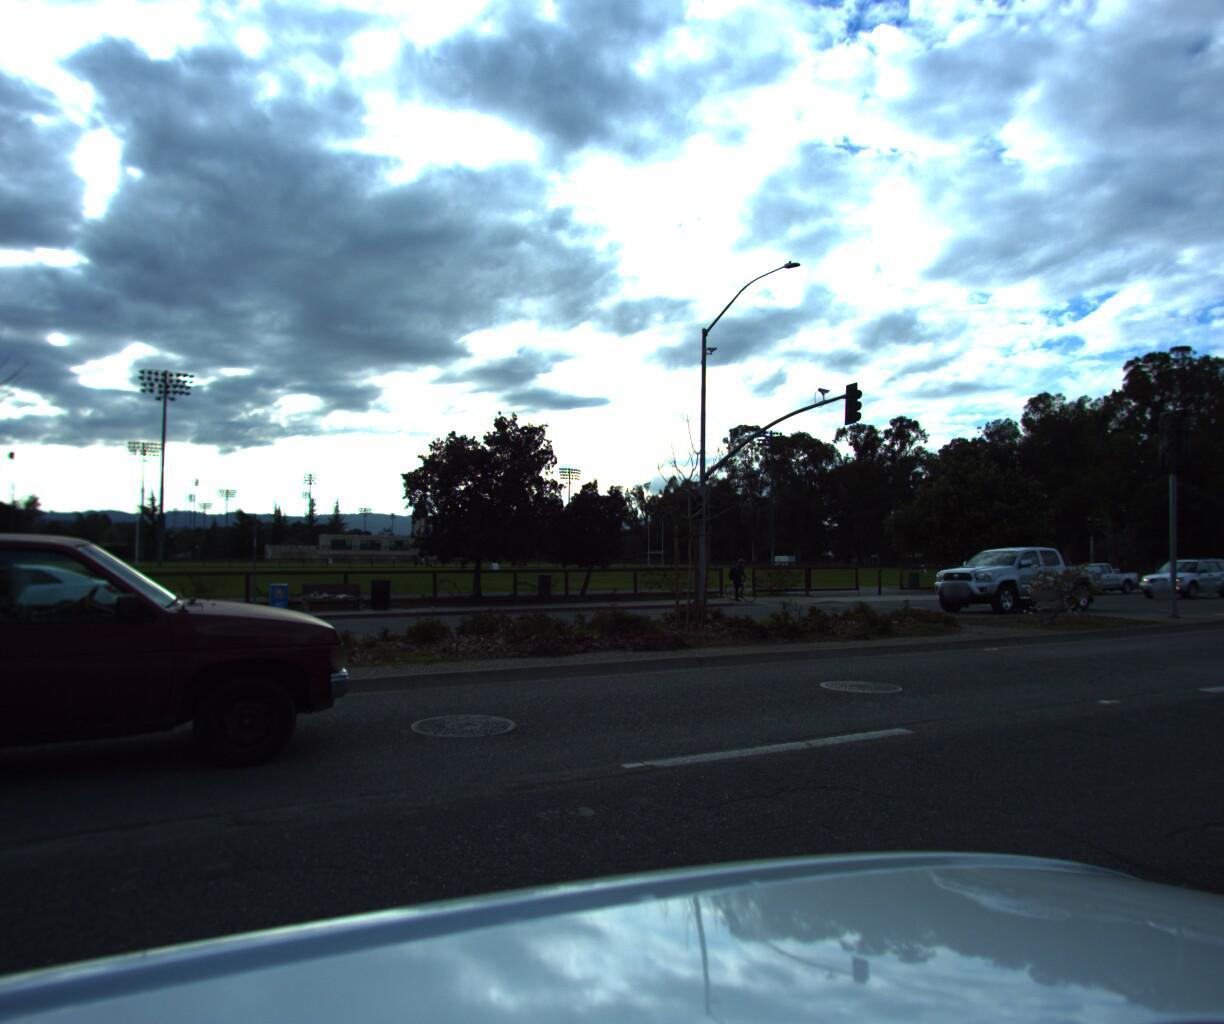bicycle: (713, 555, 760, 600)
car: (0, 523, 372, 889), (914, 541, 1115, 612), (0, 550, 114, 651), (1124, 553, 1224, 596), (1038, 557, 1135, 591), (1209, 541, 1224, 650)
